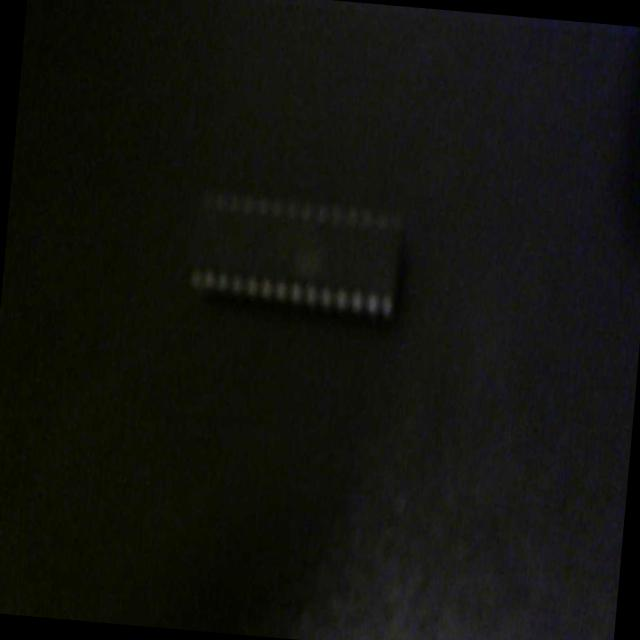atmega: (177, 174, 412, 332)
